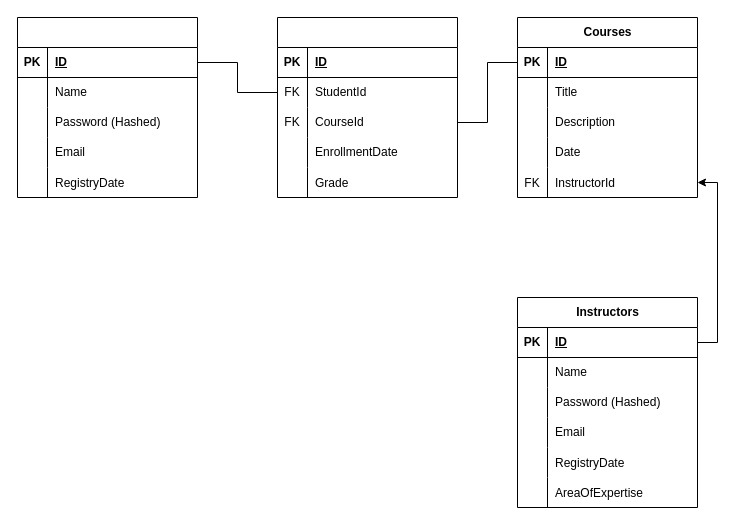
This 743x525 diagram has some shape labels left out. The box of each missing label's shape, as (x1, y1, x2, y2) in pixels:
Enrollments: (276, 16, 458, 198)
Students: (16, 16, 198, 198)
